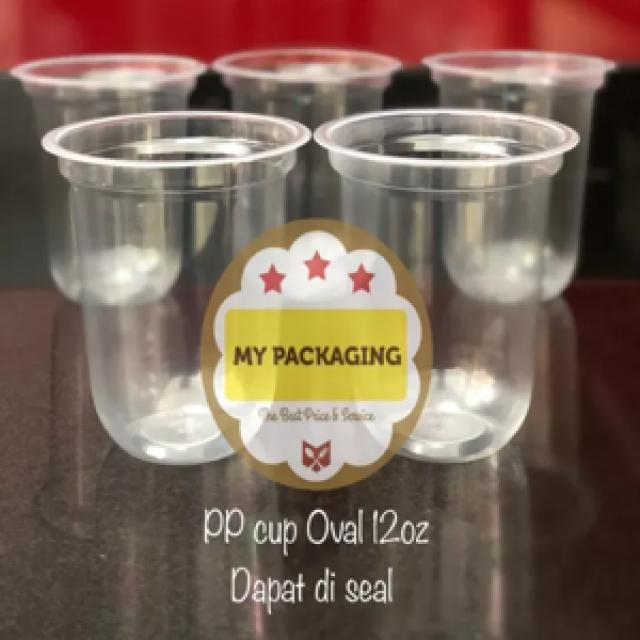plastic cup: (36, 102, 316, 476), (314, 100, 584, 465), (7, 49, 212, 316), (418, 42, 619, 312), (211, 38, 408, 198)
